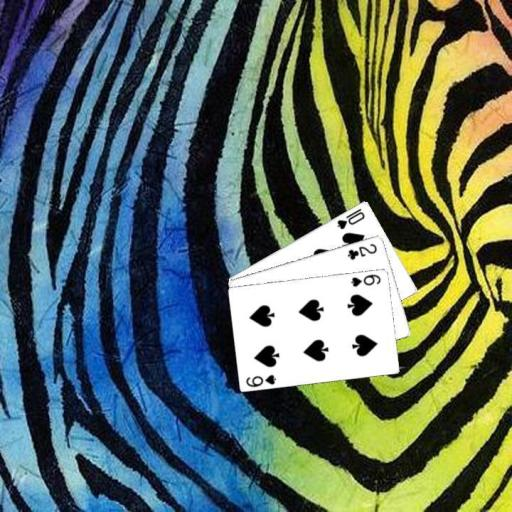10S: (334, 205, 366, 230)
2C: (344, 240, 378, 261)
6S: (348, 271, 382, 288), (244, 371, 278, 388)
